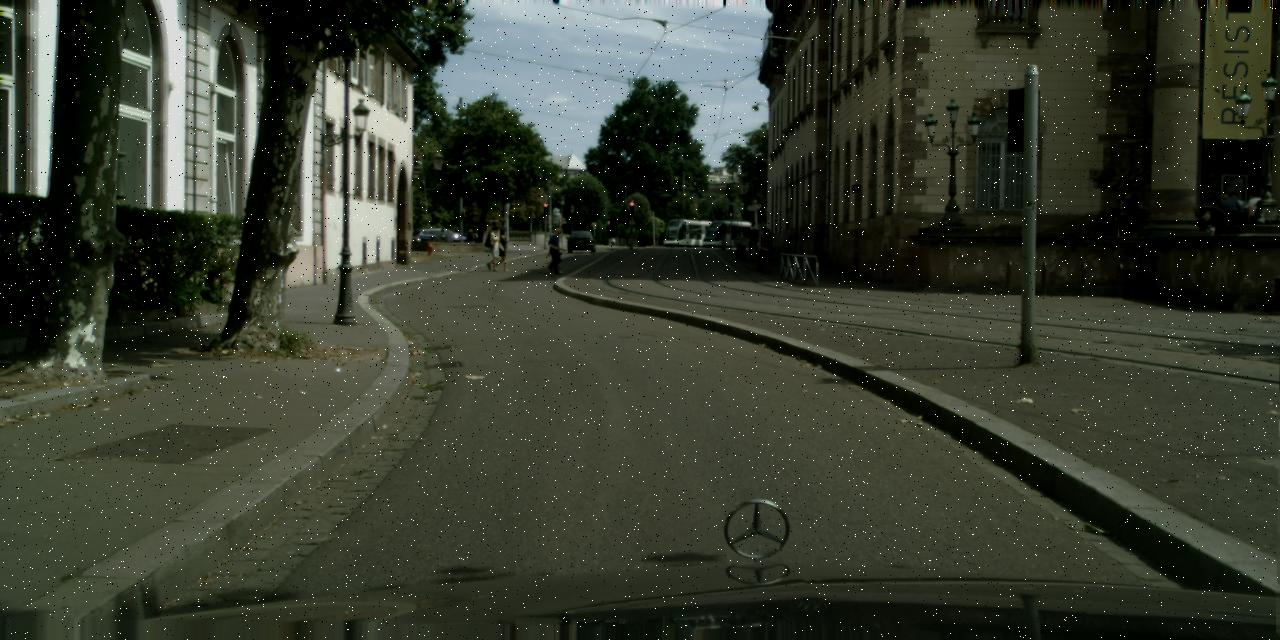ped: (484, 226, 502, 271), (546, 228, 564, 273), (493, 230, 509, 270), (546, 232, 562, 272), (748, 221, 758, 261), (759, 230, 770, 258), (764, 228, 774, 254), (759, 226, 769, 250), (466, 228, 474, 250)
